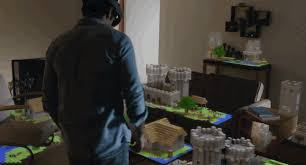hololens: (82, 1, 123, 29)
